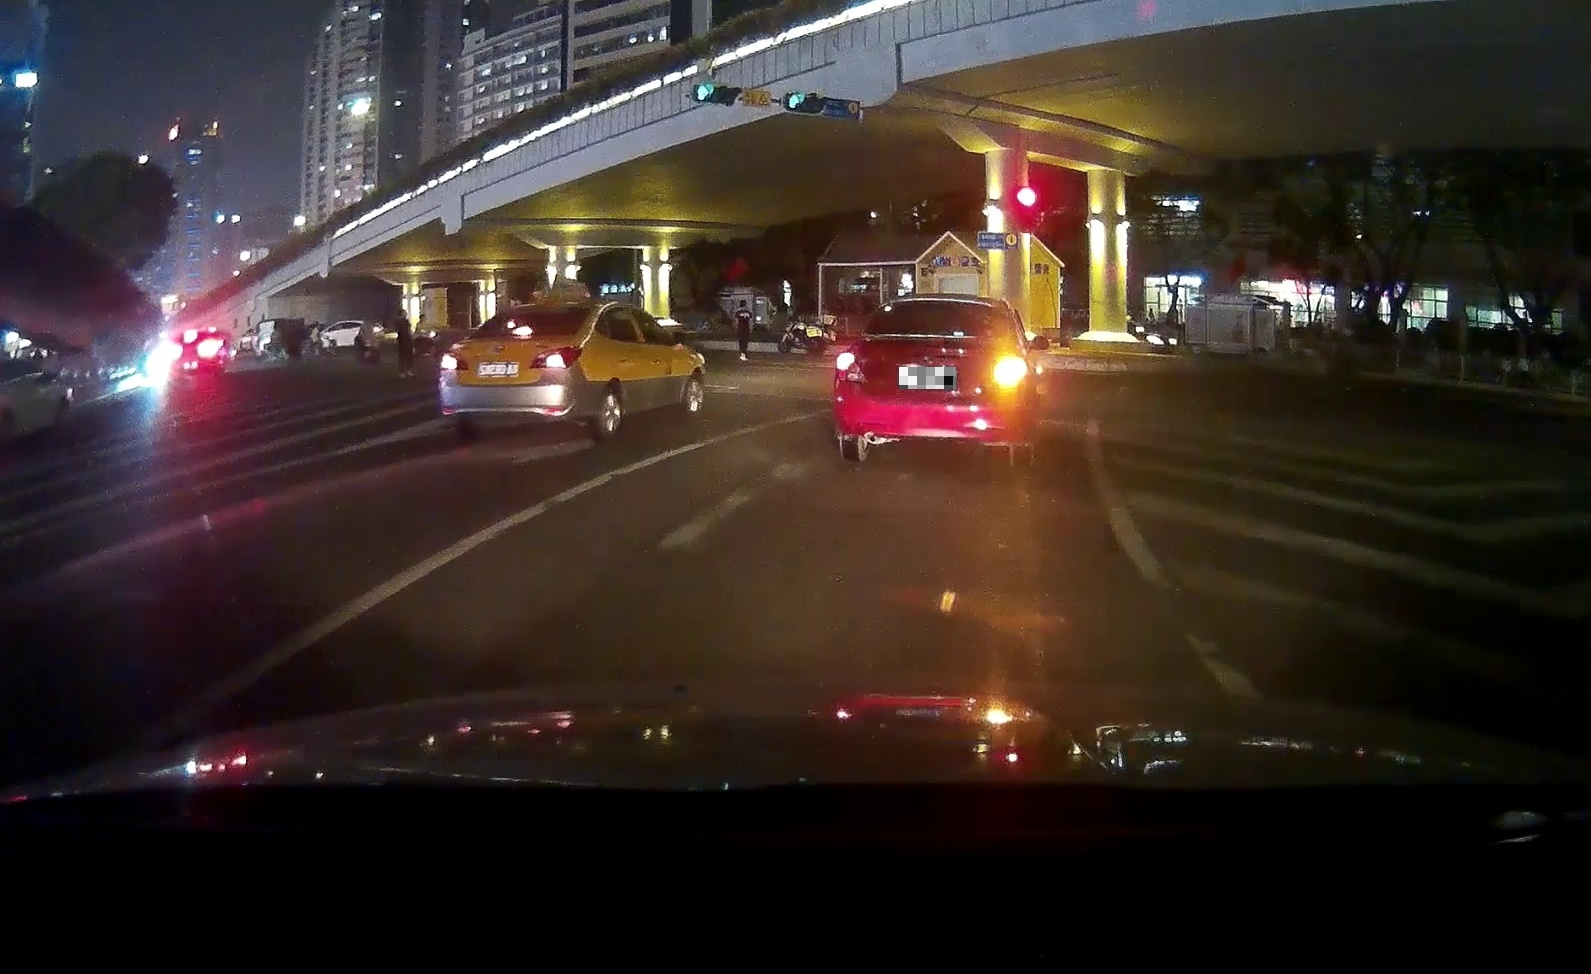L_light: (835, 352, 868, 382), (440, 353, 468, 371)
R_light: (991, 353, 1028, 389), (528, 346, 583, 368)
T_light: (511, 325, 533, 335), (927, 299, 955, 307)
night-brake: (439, 300, 590, 440)
night-right: (834, 292, 1028, 466)
plate_1: (899, 367, 956, 389)
